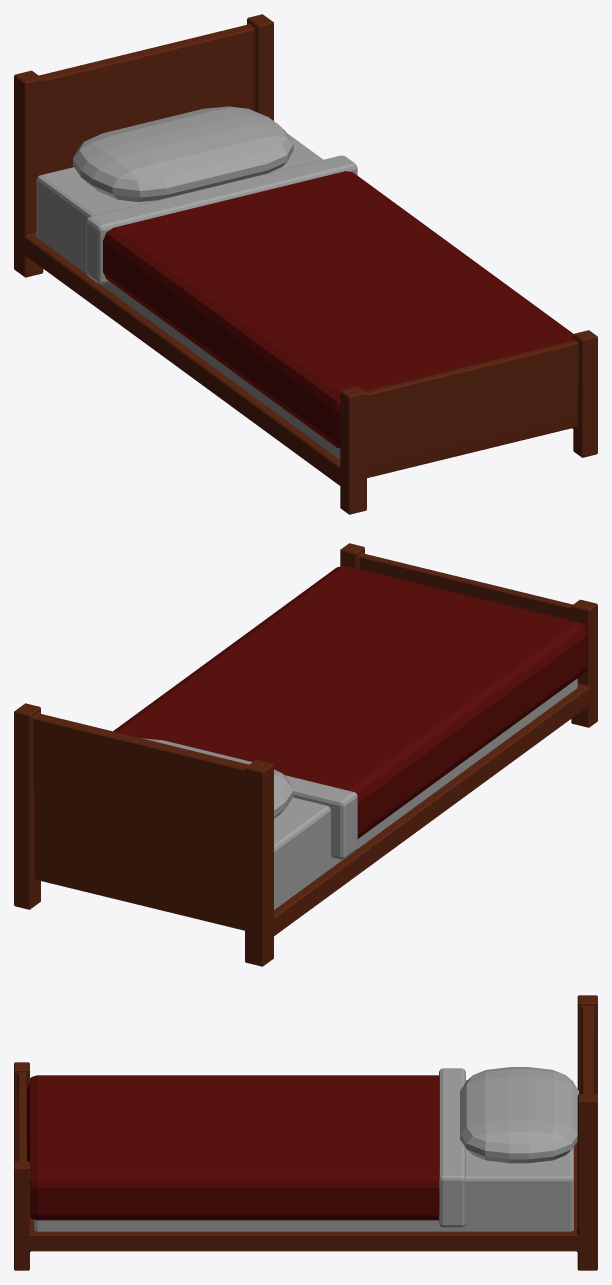
The model's file is hh_bed_single.glb.
3 views of the same model, one above another, from view 1: azimuth 30°, elevation 25°; view 2: azimuth 150°, elevation 25°; view 3: azimuth 270°, elevation 25° (orthographic). The views are drawn at different scales.
Parts seen in each view (by area): view 1: Bed_single; view 2: Bed_single; view 3: Bed_single.
Boxes of the visible parts, box(x1,y1,x2,y2) form: Bed_single: box(14, 14, 597, 514); Bed_single: box(14, 543, 597, 966); Bed_single: box(14, 995, 597, 1270).
Size of the model in its own units: 0.992 by 0.7138 by 2.22.
